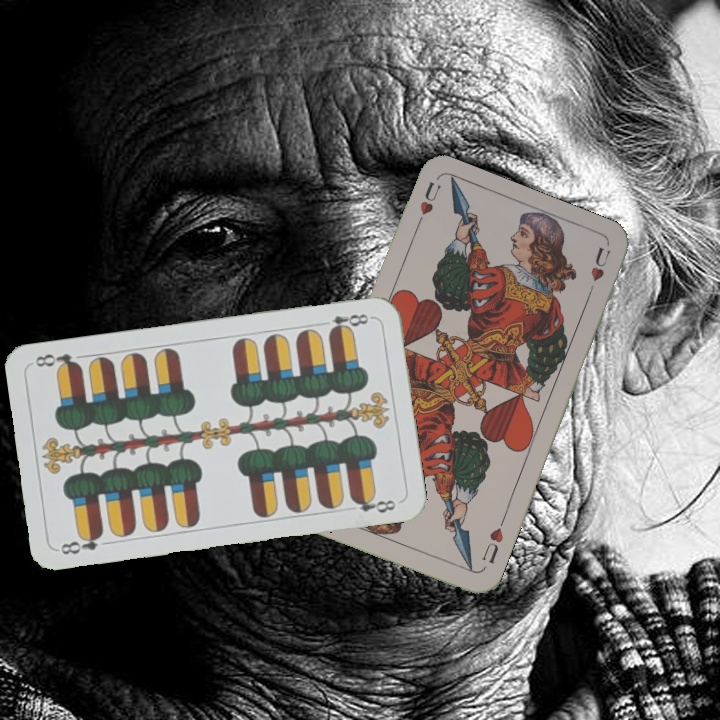E8: (316, 310, 375, 336), (57, 528, 106, 557)
HU: (410, 178, 443, 234), (478, 524, 506, 566)
